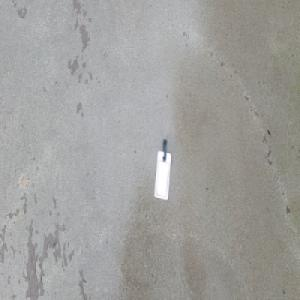LuggageTag: (153, 137, 172, 201)
